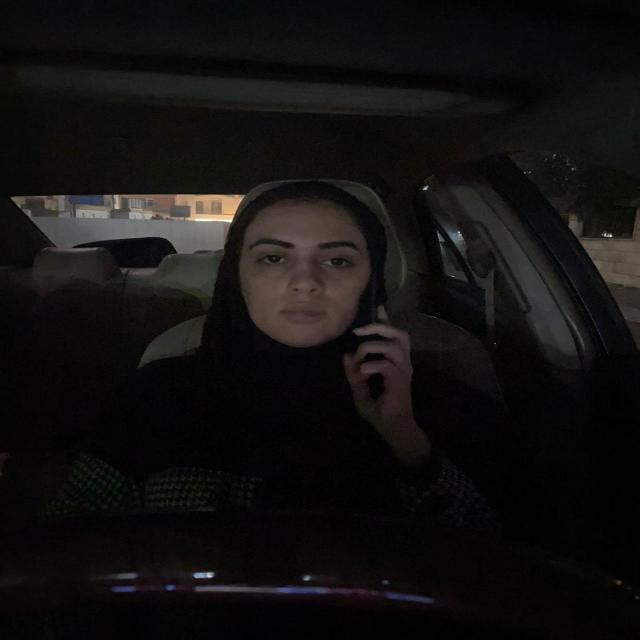mobile: (354, 272, 394, 400)
person: (213, 170, 409, 358)
